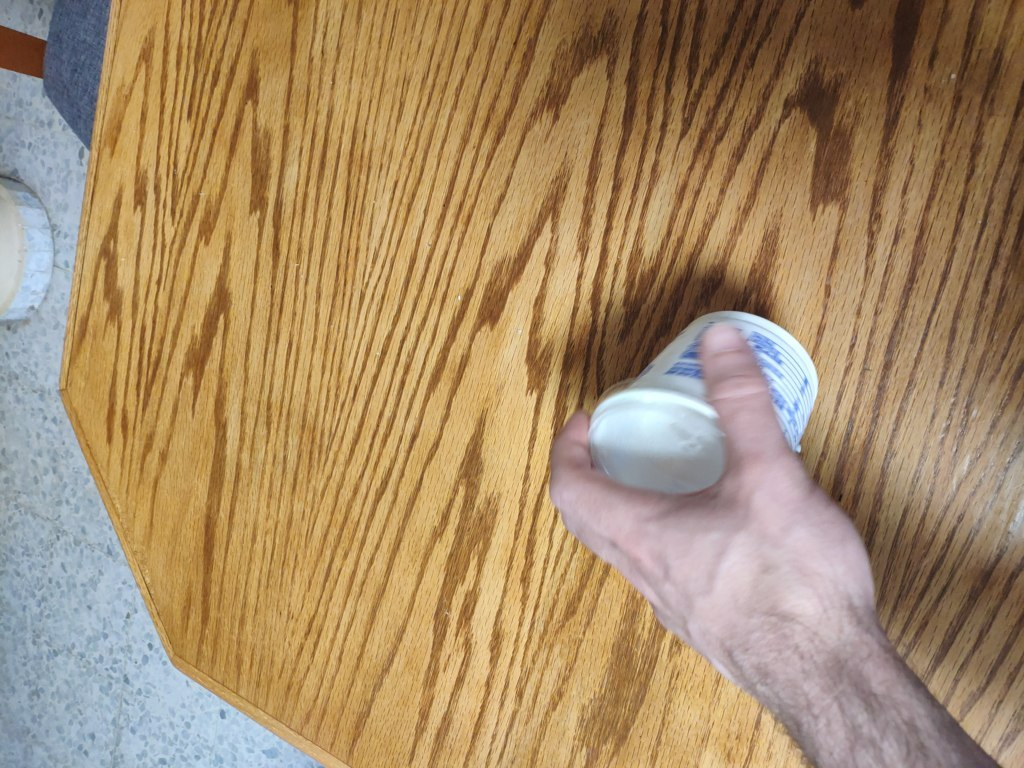Cotage: (539, 300, 794, 508)
